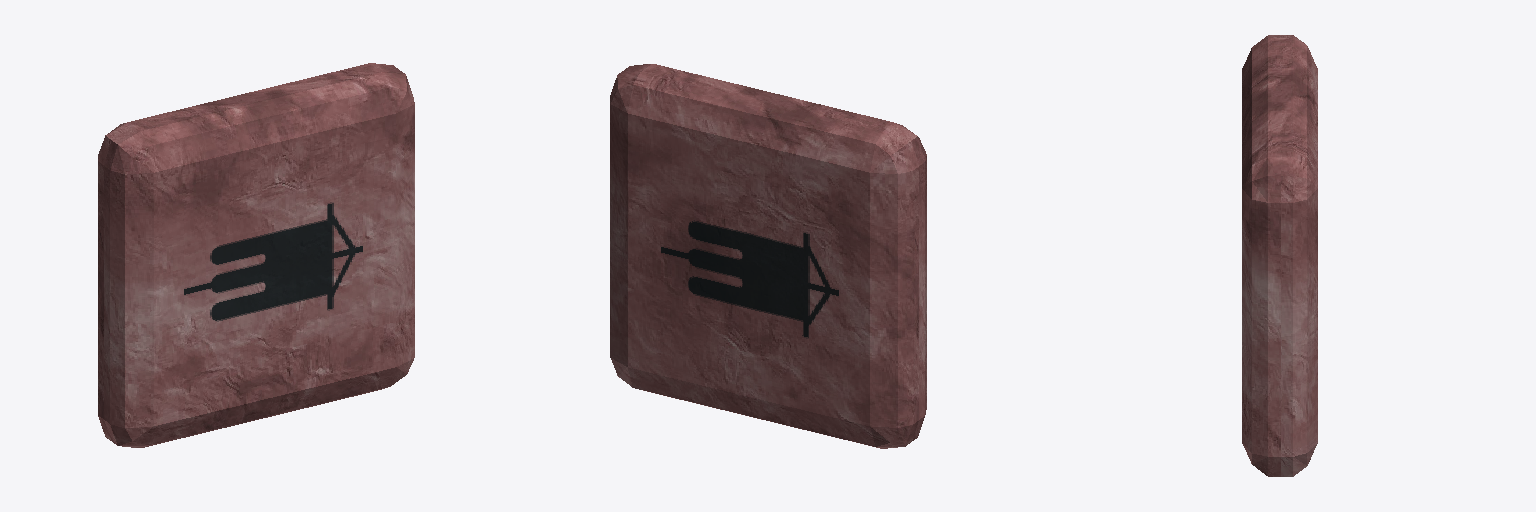
3 views of the same model, side by side, from view 1: azimuth 30°, elevation 25°; view 2: azimuth 150°, elevation 25°; view 3: azimuth 270°, elevation 25° (orthographic).
Visible parts, largest first — view 1: Cube; view 2: Cube; view 3: Cube.
Part boxes in pixels (x1,y1,x2,y2): Cube: (98,63,414,447); Cube: (610,64,926,448); Cube: (1242,35,1317,476).
Size of the model in its own units: 1 by 1 by 0.2182.
Materials: 1 (1 with a texture image).